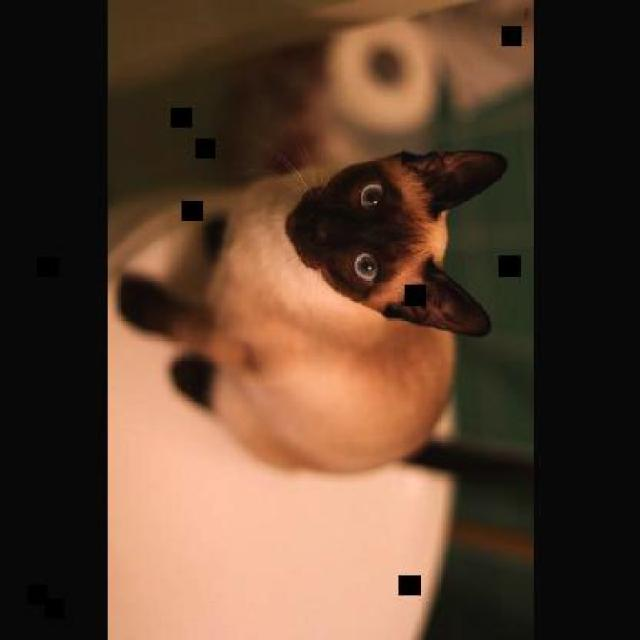unauthorized: (108, 144, 508, 473)
